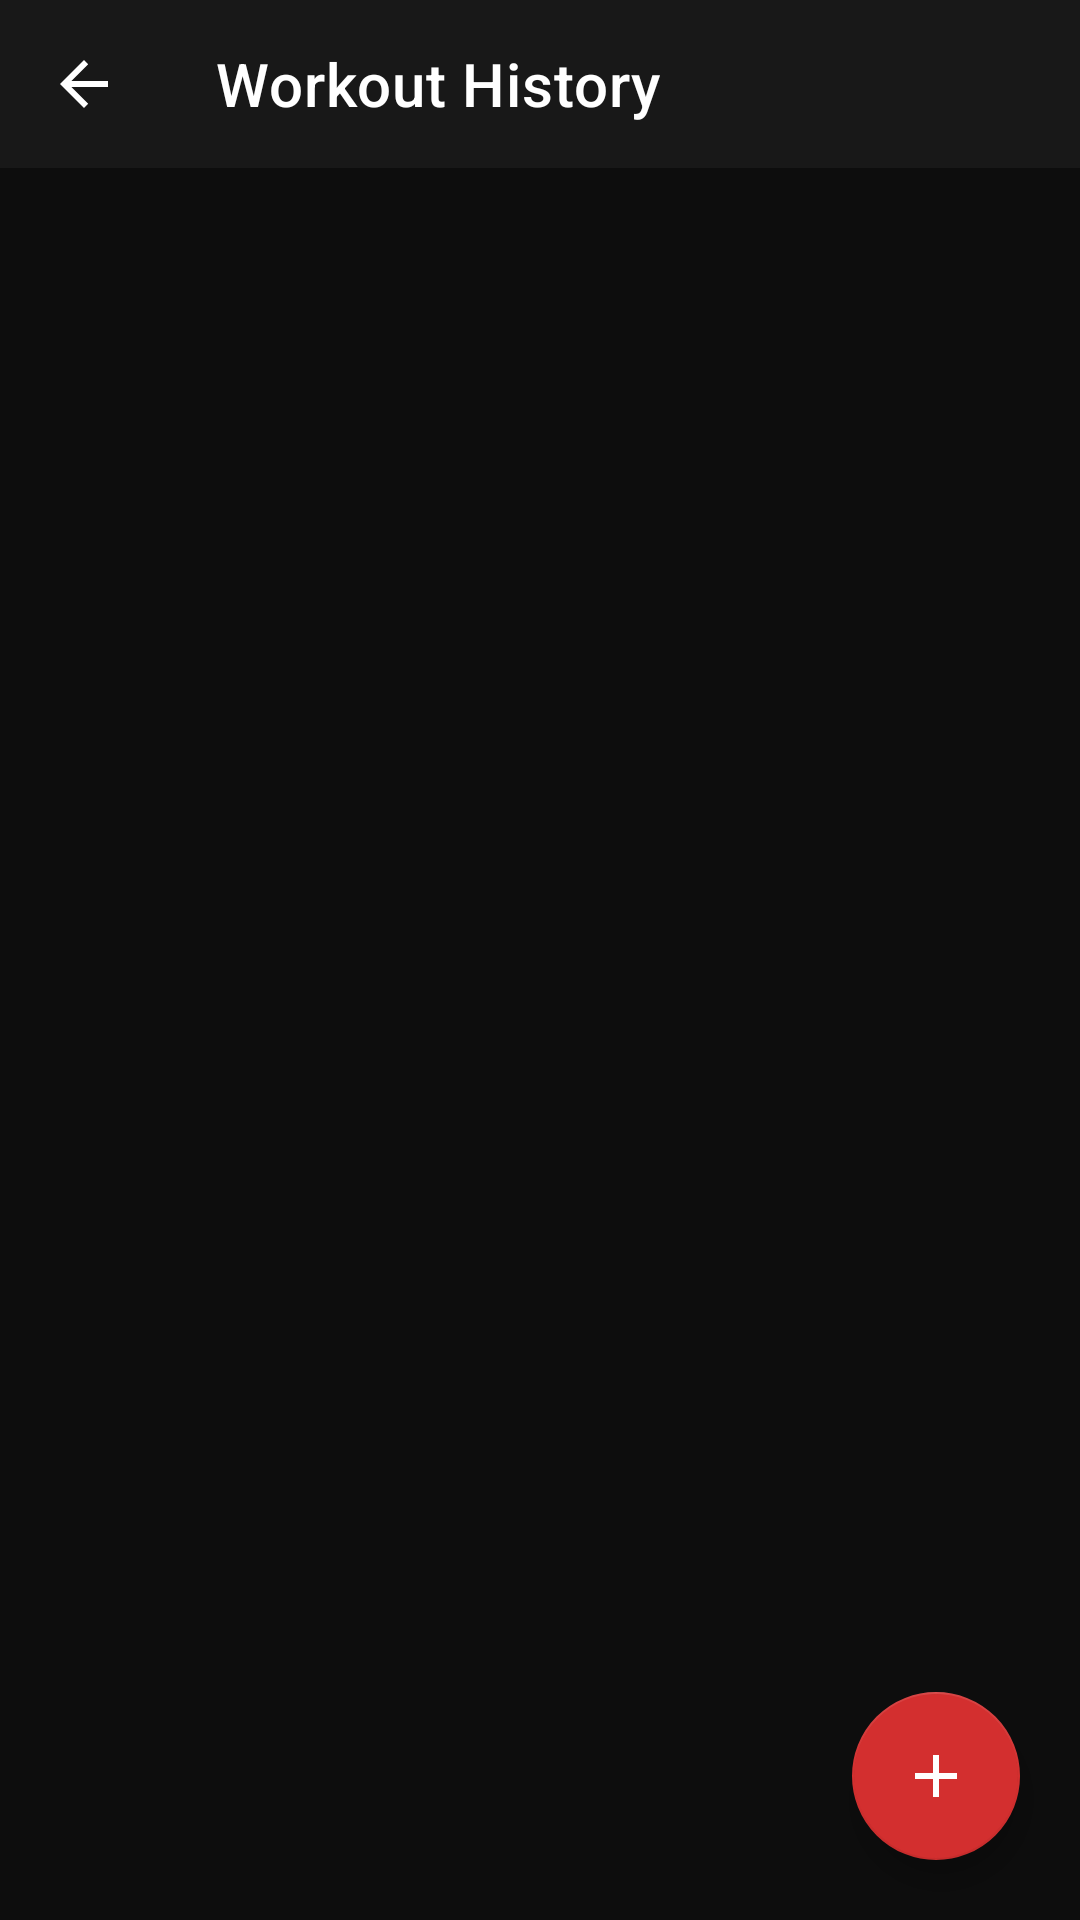

Icon bounding boxes for this 1080 × 1920 phone screenshot, format (x1, y1, x2, y2):
Add Workout: (852, 1692, 1020, 1860)
